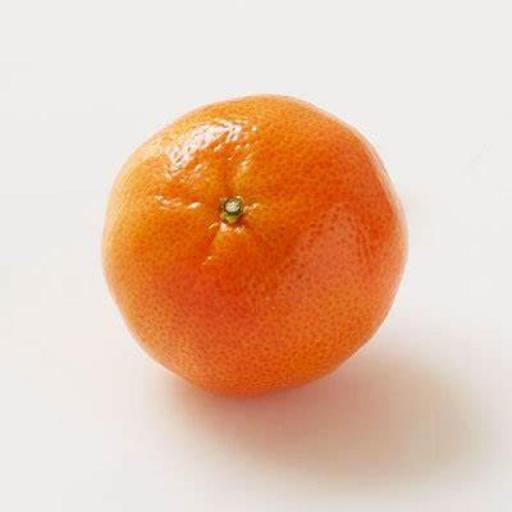fruit: (105, 96, 405, 393)
